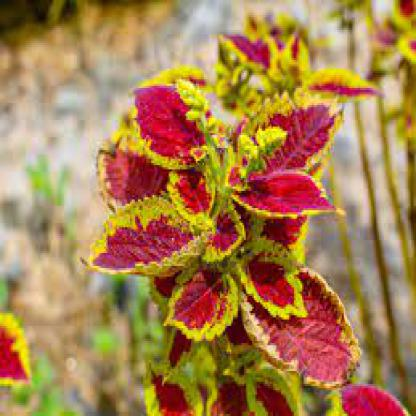Bunga Coleus: (80, 55, 372, 372)
